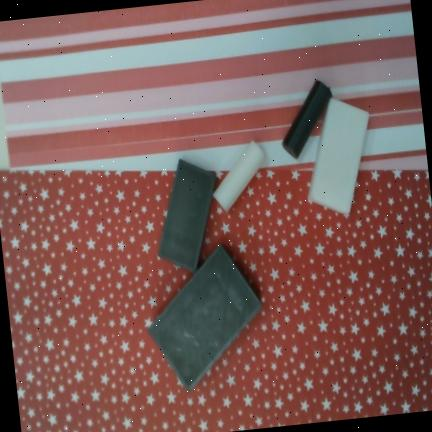Cilindro: (282, 80, 333, 159), (212, 140, 265, 213)
Paralelepipedo: (148, 245, 262, 392), (308, 97, 370, 216), (157, 160, 217, 273)
